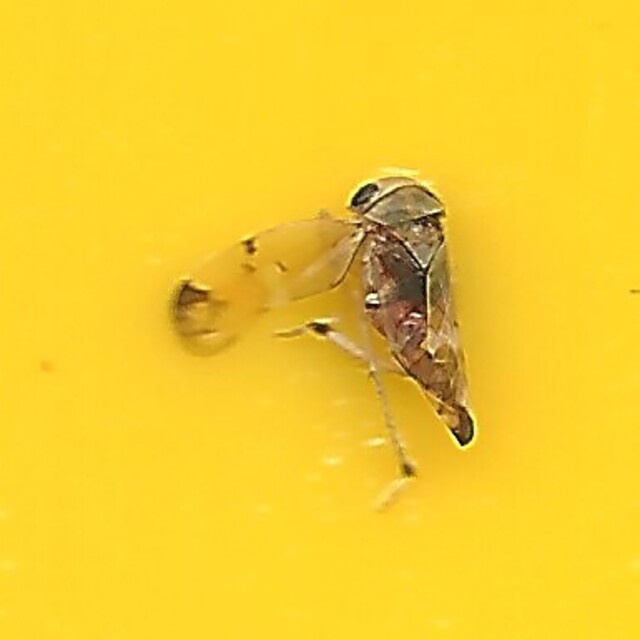Hemiptera: (166, 172, 474, 468)
